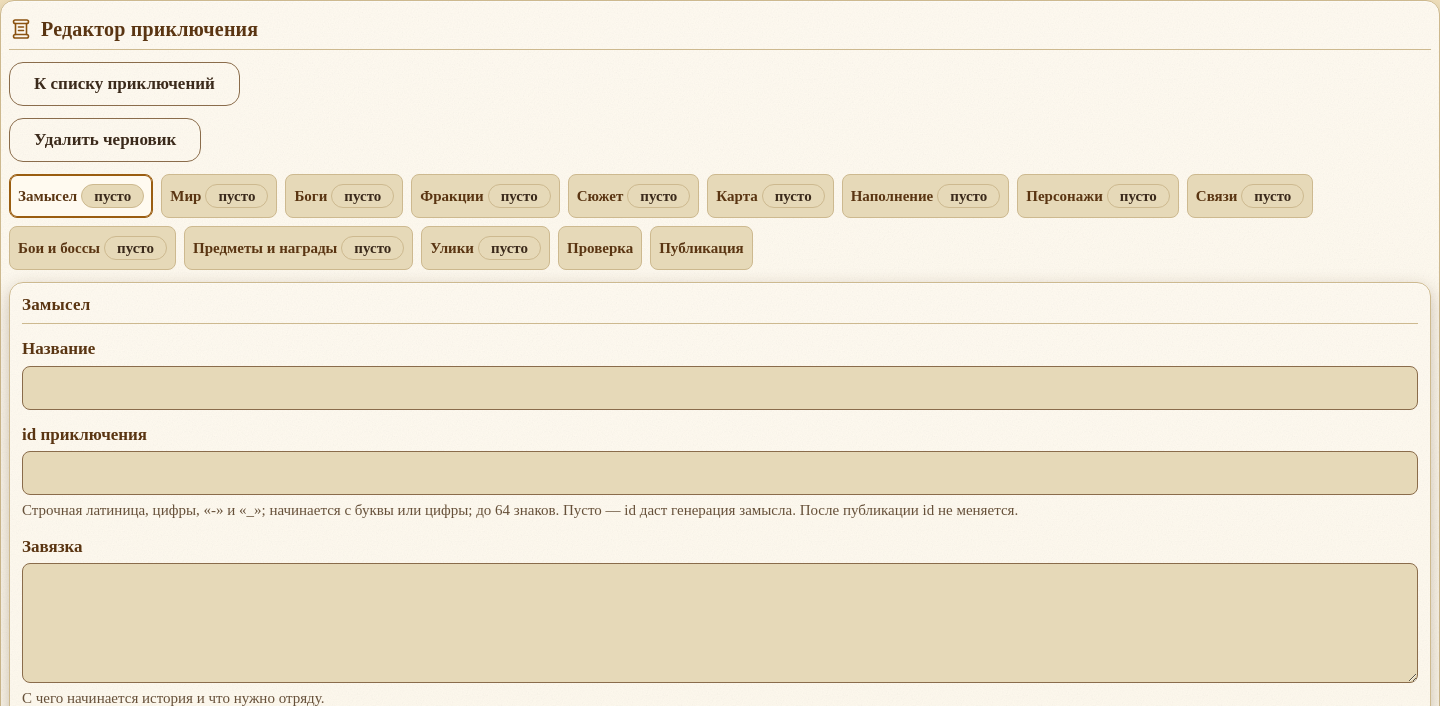
Test: шаг «Предметы и награды» › 409 version_conflict: диалог «Черновик изменился, обновить?»
Click the button "Предметы и награды пусто" at (299, 248), box [184,226,413,270]
(page scrolled)
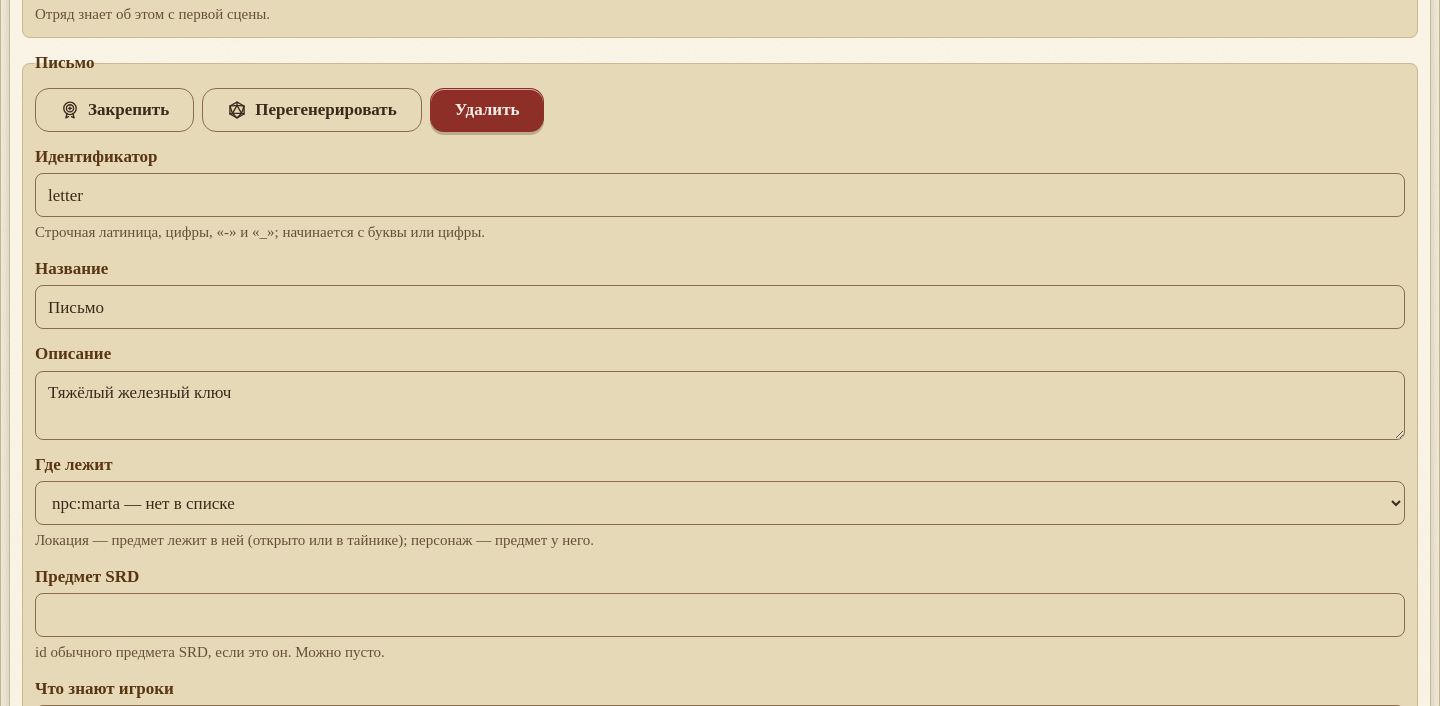
Replace the text in the text box labelled "Описание" with "Мятое письмо" at (720, 405), box [35,371,1405,440]
(page scrolled)
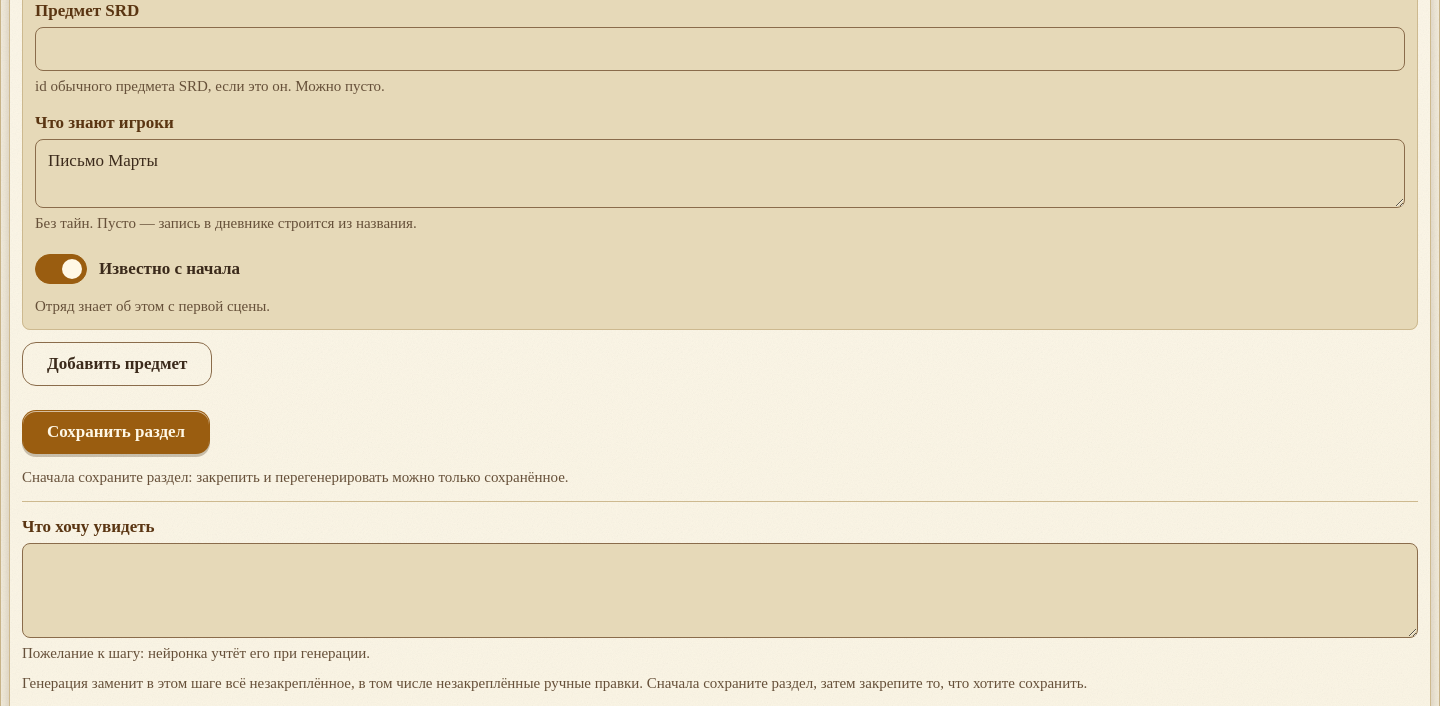
Click the button "Сохранить раздел" at (116, 432), box [22,410,210,454]
(page scrolled)
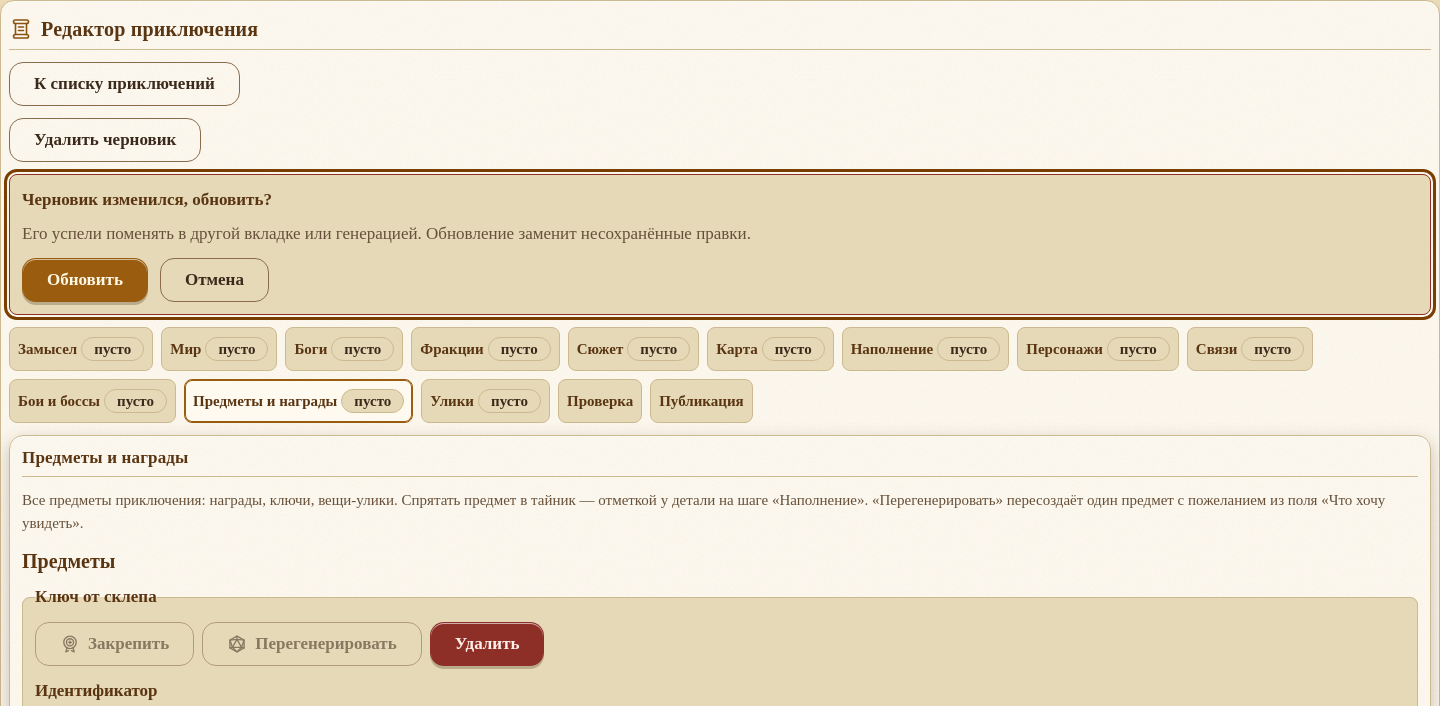
expect the dialog "Черновик изменился, обновить?" is shown: met, box [9,174,1431,315]
